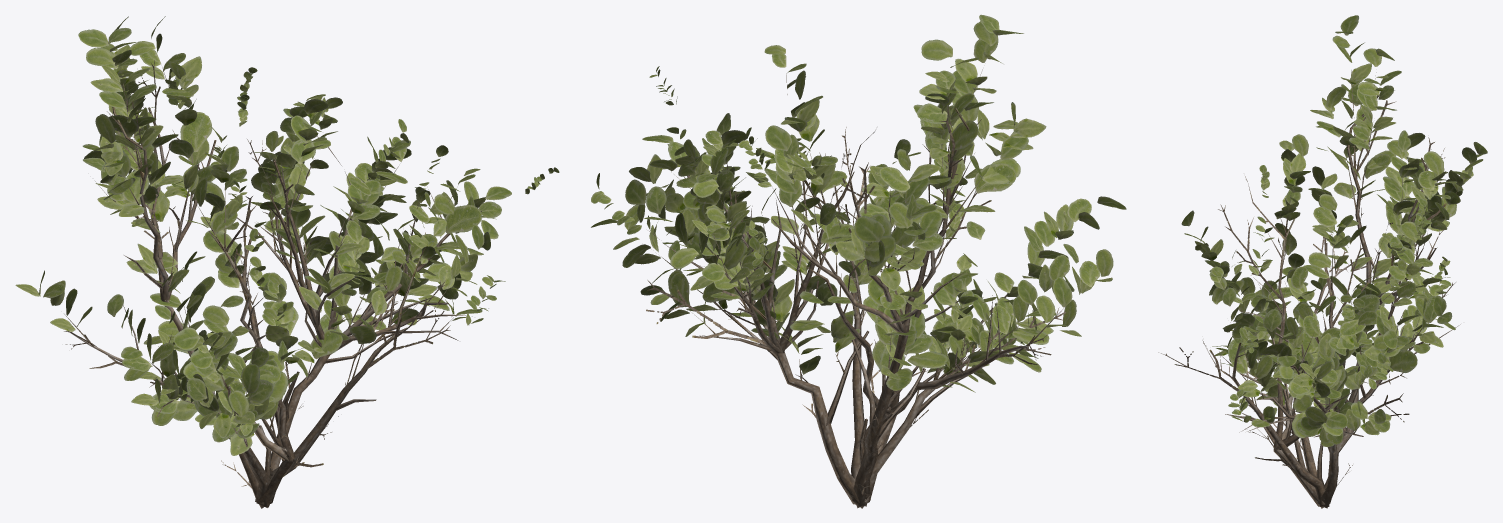
The model's file is struik_klein.gltf.
3 views of the same model, side by side, from view 1: azimuth 30°, elevation 25°; view 2: azimuth 150°, elevation 25°; view 3: azimuth 270°, elevation 25° (orthographic). The views are drawn at different scales.
Parts seen in each view (by area): view 1: searsia_lucida_e_LOD0; view 2: searsia_lucida_e_LOD0; view 3: searsia_lucida_e_LOD0.
Boxes of the visible parts, <box> form: searsia_lucida_e_LOD0: <box>15,16,559,508</box>; searsia_lucida_e_LOD0: <box>591,14,1126,508</box>; searsia_lucida_e_LOD0: <box>1158,15,1487,508</box>.
Size of the model in its own units: 1.04 by 1.02 by 0.7198.
2 materials, 2 textured.
